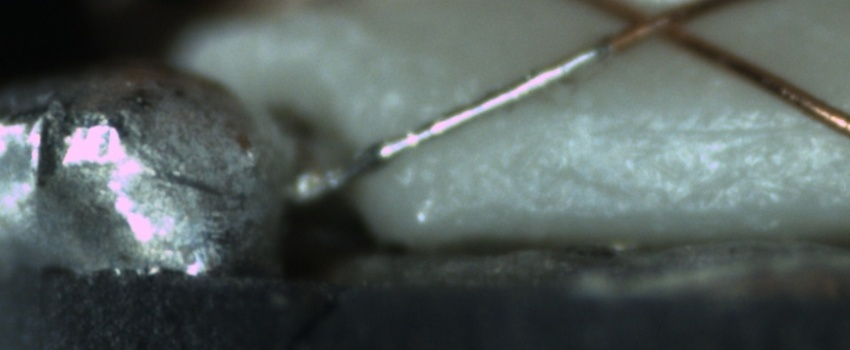CL: (604, 1, 692, 47)
DL: (652, 99, 824, 161)
TS: (288, 40, 610, 208)
